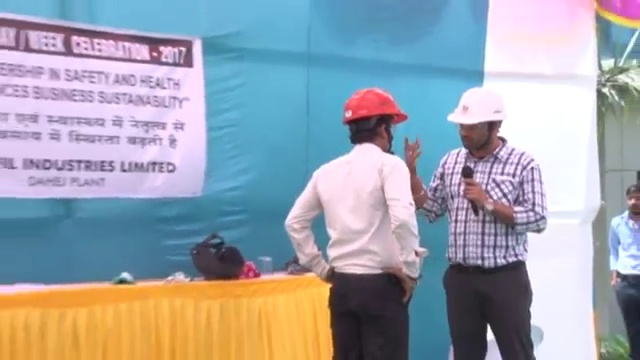helmet: (340, 87, 409, 126), (448, 86, 509, 126)
helmet_off: (624, 182, 640, 216)
helmet_on: (338, 87, 410, 153), (448, 86, 510, 159)
person: (280, 88, 427, 360), (406, 84, 549, 360), (609, 182, 640, 352)
